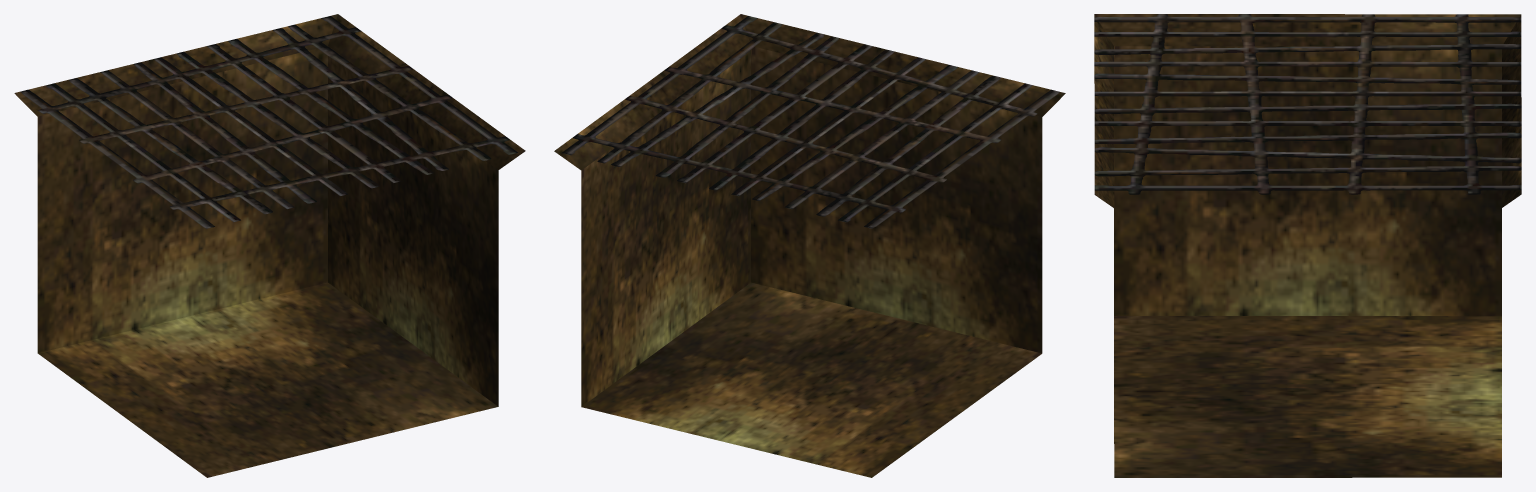
Rendered from building_mantrap.glb.
3 renders of one model, left to right at view 1: azimuth 30°, elevation 25°; view 2: azimuth 150°, elevation 25°; view 3: azimuth 270°, elevation 25°, orthographic. The views are drawn at different scales.
Visible parts, largest first — view 1: building_mantrap; view 2: building_mantrap; view 3: building_mantrap.
Part boxes in pixels (box(x1,y1,x2,y2)): building_mantrap: box(14, 14, 525, 477); building_mantrap: box(554, 14, 1065, 477); building_mantrap: box(1094, 14, 1521, 477).
Size of the model in its own units: 2.05 by 1.55 by 2.05.
2 materials, 2 textured.
